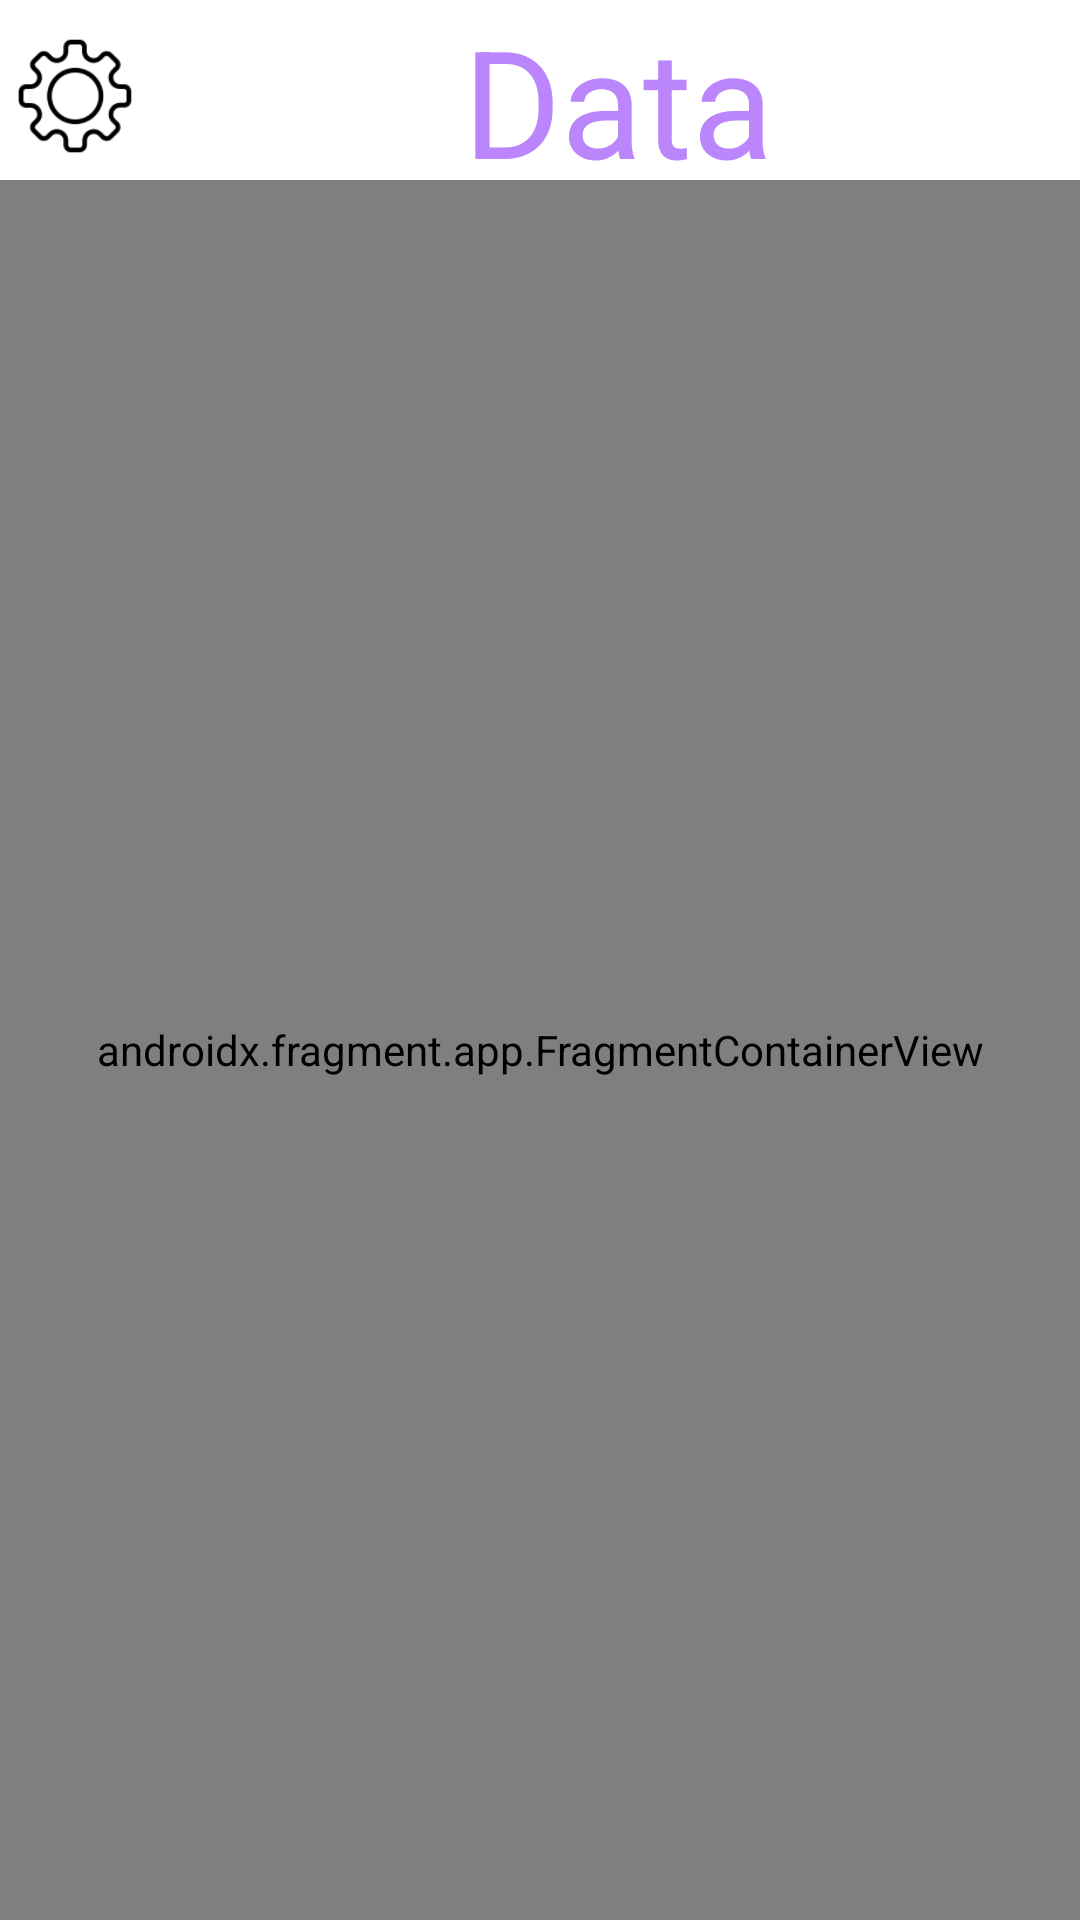

Where to tap for icons on this 1080*1920 app screen, as point (x, y):
gear: point (75, 96)
